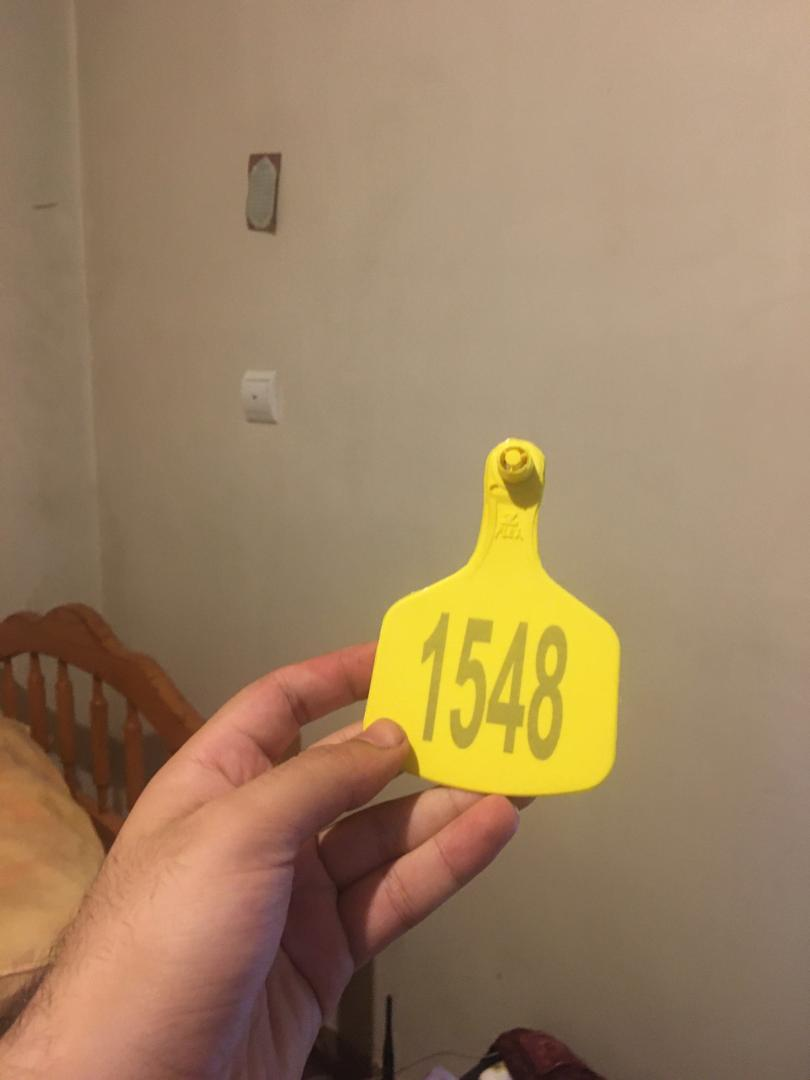digit: (419, 605, 570, 765)
